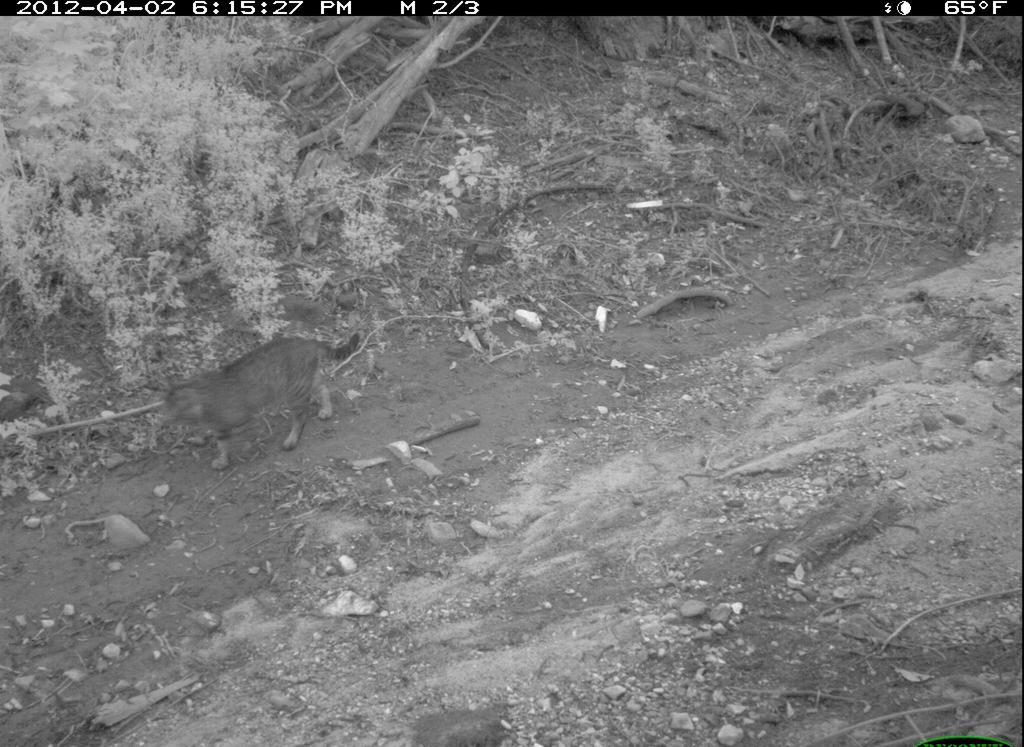cat: (126, 323, 378, 472)
